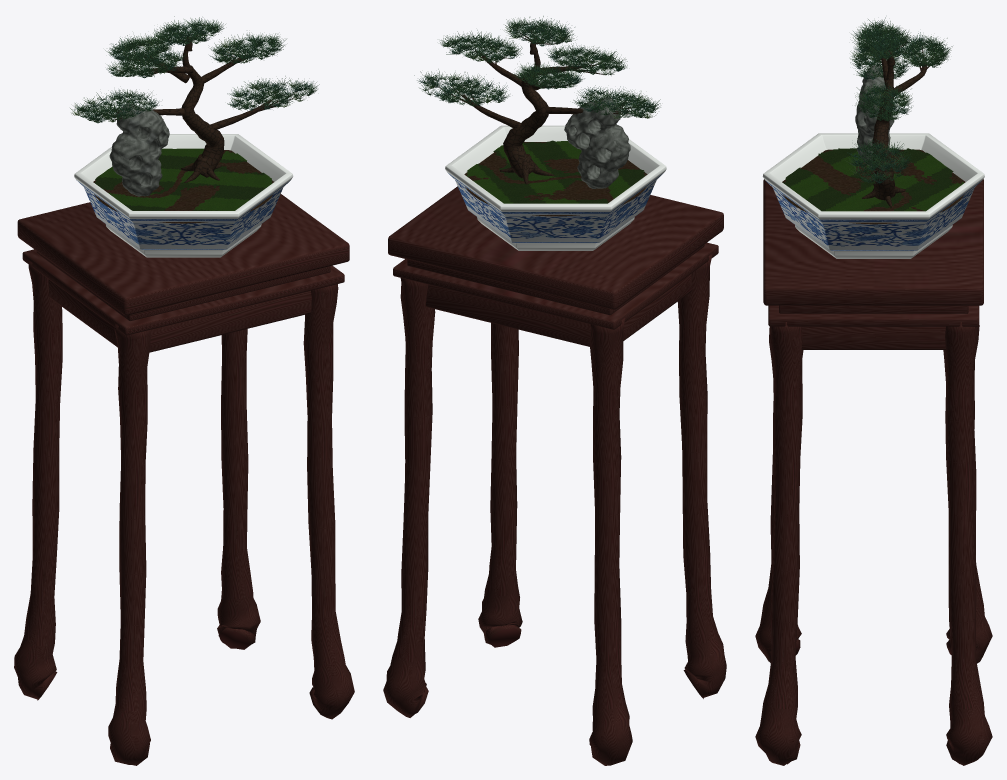
Rendered from gpt-penjing-v2.glb.
3 renders of one model, left to right at view 1: azimuth 30°, elevation 25°; view 2: azimuth 150°, elevation 25°; view 3: azimuth 270°, elevation 25°, orthographic.
Parts seen in each view (by area): view 1: 几面, 六角青花盆及完整口沿, 独立松针云片, 深浅薄苔, 五孔太湖石, 虬曲主干, 土面; view 2: 几面, 六角青花盆及完整口沿, 独立松针云片, 深浅薄苔, 五孔太湖石, 虬曲主干, 土面; view 3: 几面, 六角青花盆及完整口沿, 独立松针云片, 深浅薄苔, 土面, 虬曲主干, 五孔太湖石.
Boxes of the visible parts, x1,y1,x2,y2 form: 几面: [14, 194, 354, 765]; 六角青花盆及完整口沿: [74, 134, 293, 257]; 独立松针云片: [70, 16, 319, 123]; 深浅薄苔: [95, 148, 272, 210]; 五孔太湖石: [109, 103, 169, 196]; 虬曲主干: [102, 32, 297, 182]; 土面: [93, 150, 273, 223]; 几面: [383, 186, 726, 765]; 六角青花盆及完整口沿: [445, 125, 666, 250]; 独立松针云片: [414, 16, 660, 118]; 深浅薄苔: [466, 140, 645, 203]; 五孔太湖石: [564, 97, 630, 188]; 虬曲主干: [438, 31, 639, 184]; 土面: [464, 142, 647, 216]; 几面: [755, 179, 992, 765]; 六角青花盆及完整口沿: [762, 133, 984, 258]; 独立松针云片: [843, 17, 952, 183]; 深浅薄苔: [783, 148, 963, 211]; 土面: [782, 149, 965, 224]; 虬曲主干: [859, 43, 934, 207]; 五孔太湖石: [855, 65, 894, 166].
Size of the model in its own units: 0.4533 by 1.14 by 0.3582.
12 materials, 7 textured.
